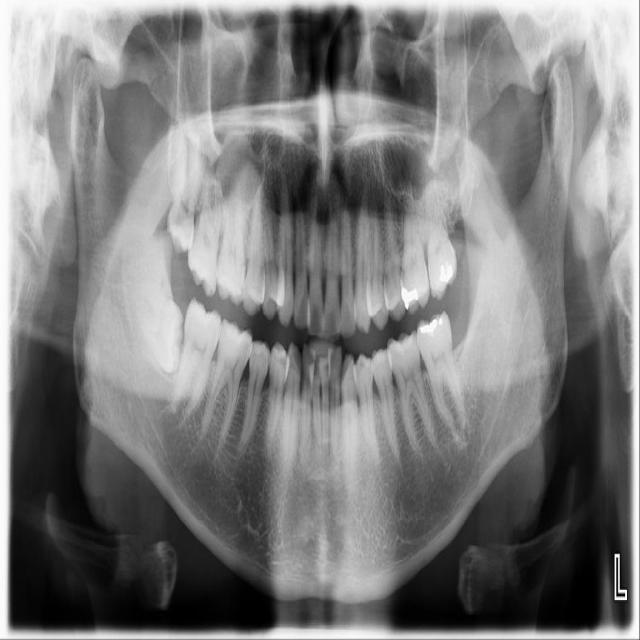Filling: (417, 315, 446, 334), (400, 285, 420, 310), (438, 263, 454, 285)
impacted tooth: (123, 258, 184, 370)
